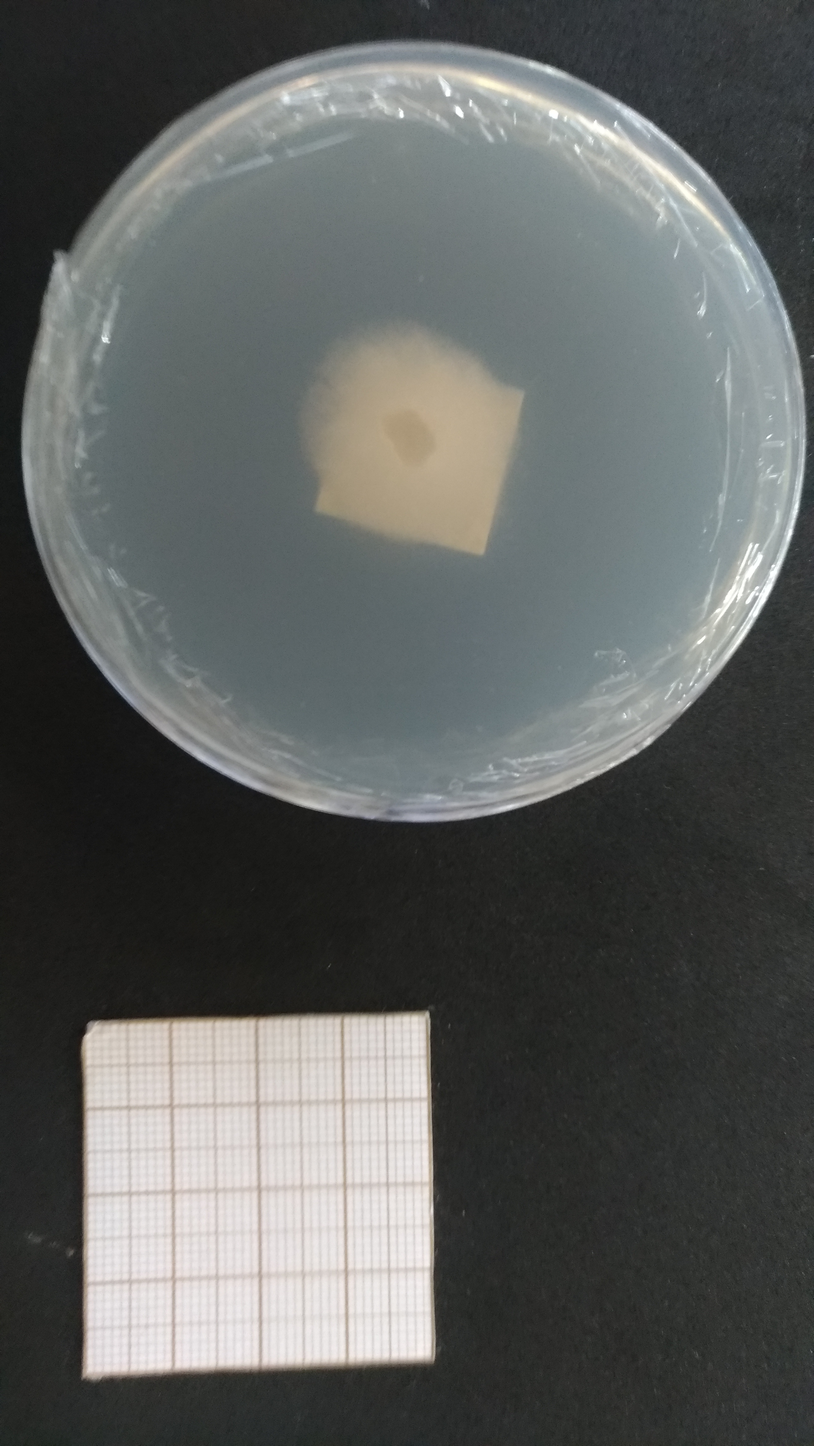escala: (87, 1013, 435, 1376)
fungo: (295, 325, 514, 543)
